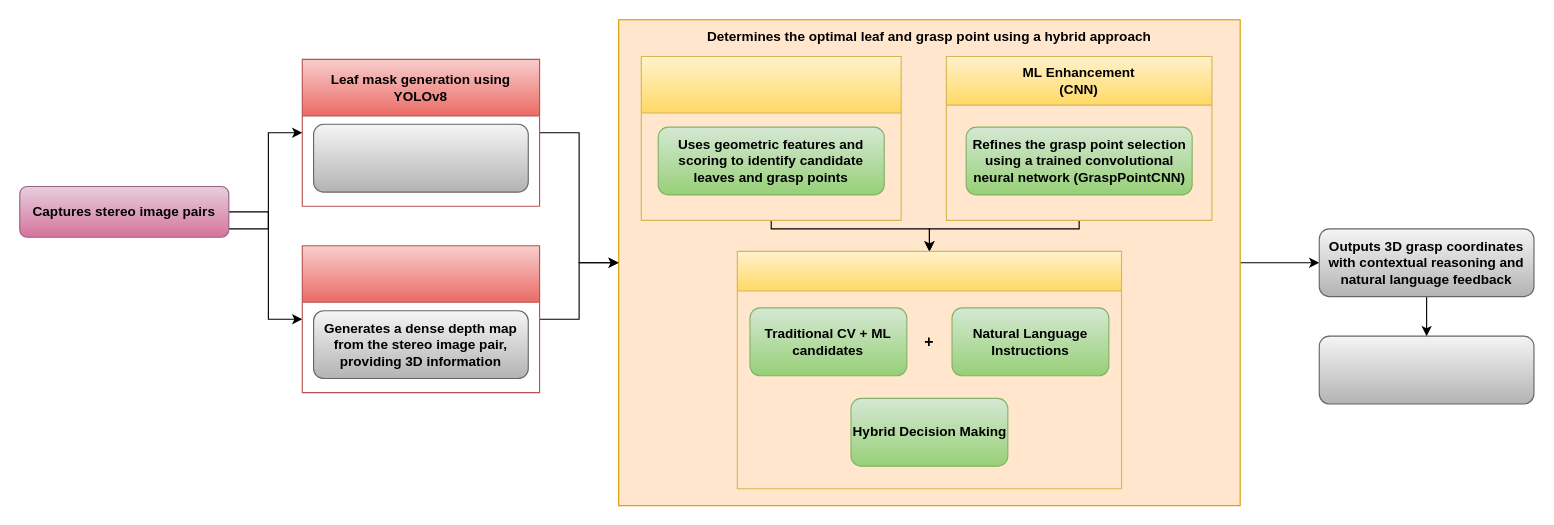
Image size: 1554x525. Some labels were removed from this diagram. Each missing label, with the box of its shape:
Depth estimation using RAFT-Stereo: (301, 245, 540, 393)
Detects and segments individual leaves using the YOLOv8 object detection model: (312, 123, 528, 192)
The robot control system uses these for precise leaf grasping.: (1318, 335, 1534, 404)
Traditional CV (Geometric): (640, 55, 901, 220)
VLA Enhancement ( LLaVA-1.5-7B): (736, 250, 1122, 489)
